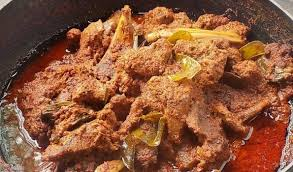rendang: (8, 6, 293, 169)
